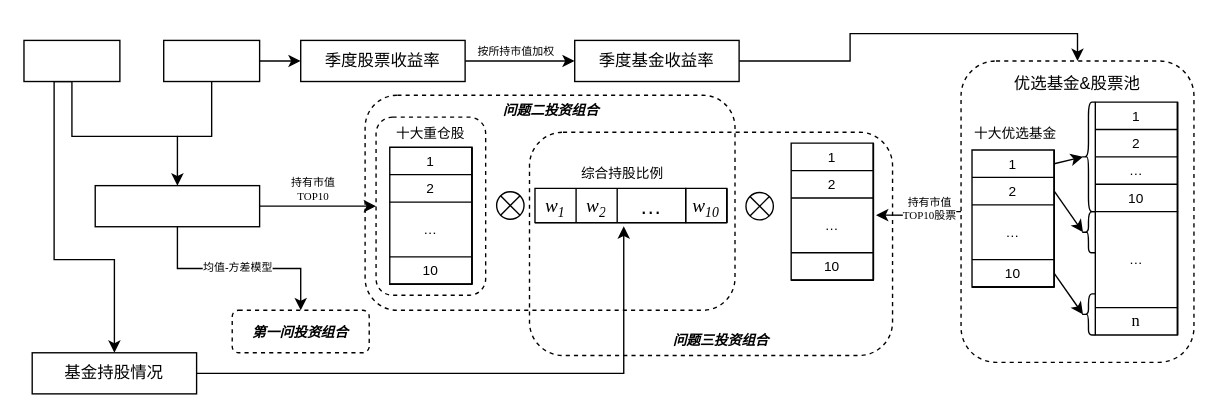
The diagram is 1218 pixels wide and 418 high, and some of its shapes have lost their labels. The shapes that lost their labels are listed below. From the top down, each one's centre as x and y in pixels, then its label:
[71,60]: 附件一
[211,60]: 附件二
[177,205]: 基金重仓股
